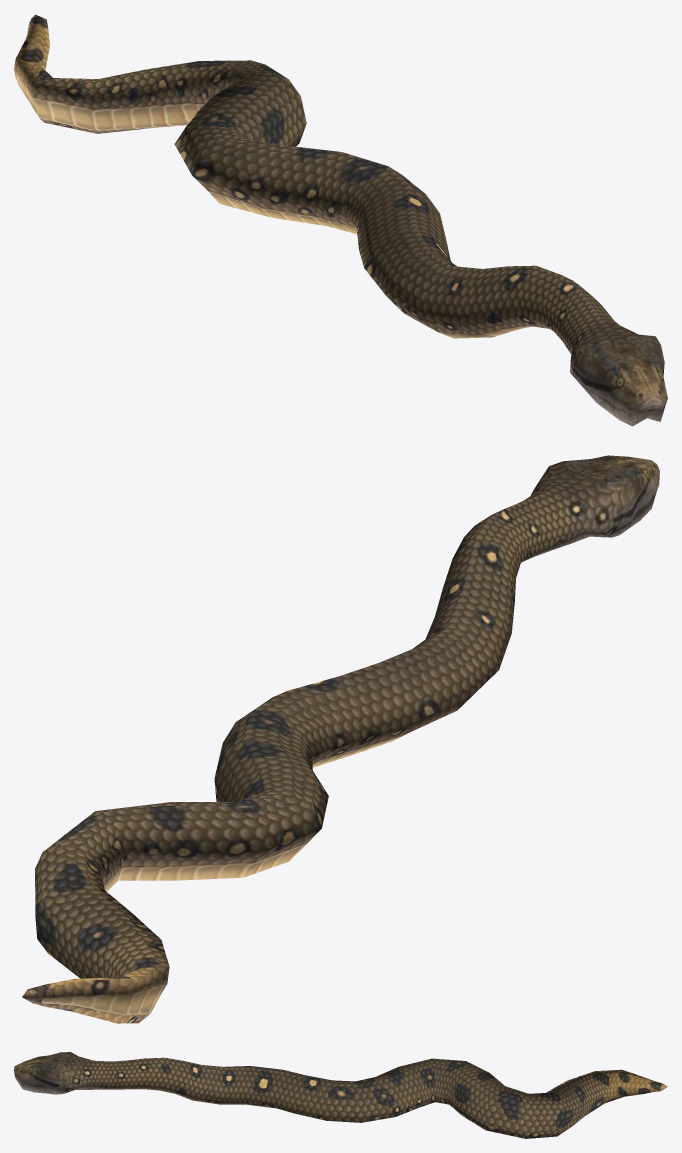
The model's file is 195-anaconda.glb.
3 renders of one model, top to bottom at view 1: azimuth 30°, elevation 25°; view 2: azimuth 150°, elevation 25°; view 3: azimuth 270°, elevation 25°, orthographic. The views are drawn at different scales.
Size of the model in its own units: 0.7019 by 0.5018 by 3.97.
1 material, 1 textured.
